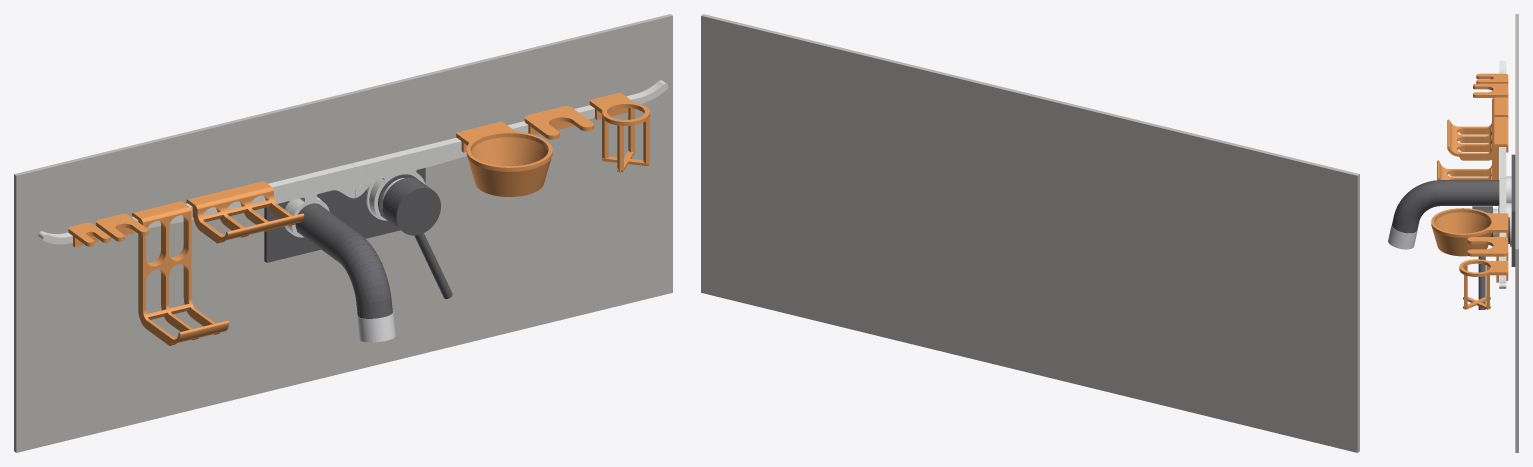
The model's file is bathroom_trazo.glb.
3 renders of one model, left to right at view 1: azimuth 30°, elevation 25°; view 2: azimuth 150°, elevation 25°; view 3: azimuth 270°, elevation 25°, orthographic. The views are drawn at different scales.
Parts seen in each view (by area): view 1: pared, jinete_secador, jinete_desodorante, cano, trazo_derecha, jinete_colonia, trazo_izquierda, placa, jinete_oralb, manilla_mando, jinete_pelo, cano_aireador (+3 smaller); view 2: pared; view 3: cano, jinete_secador, jinete_colonia, pared, jinete_desodorante, jinete_oralb, jinete_pelo, placa, trazo_derecha, jinete_pasta, cano_aireador, trazo_izquierda (+3 smaller).
Part boxes in pixels (x1,y1,x2,y2): pared: (14,14,672,452); jinete_secador: (456,121,552,196); jinete_desodorante: (132,201,229,345); cano: (295,203,392,318); trazo_derecha: (351,80,668,216); jinete_colonia: (186,181,304,243); trazo_izquierda: (38,163,364,244); placa: (264,168,425,262); jinete_oralb: (589,92,649,172); manilla_mando: (382,177,440,235); jinete_pelo: (524,106,593,139); cano_aireador: (357,312,395,342); pared: (701,14,1359,452); cano: (1392,180,1499,233); jinete_secador: (1431,208,1508,256); jinete_colonia: (1447,117,1508,160); pared: (1515,14,1518,452); jinete_desodorante: (1437,97,1508,180); jinete_oralb: (1459,259,1508,309); jinete_pelo: (1467,237,1508,260); placa: (1511,154,1515,266); trazo_derecha: (1499,178,1509,288); jinete_pasta: (1473,83,1508,98); cano_aireador: (1388,224,1417,249); trazo_izquierda: (1499,61,1506,178).
Size of the model in its own units: 0.62 by 0.25 by 0.1457.
